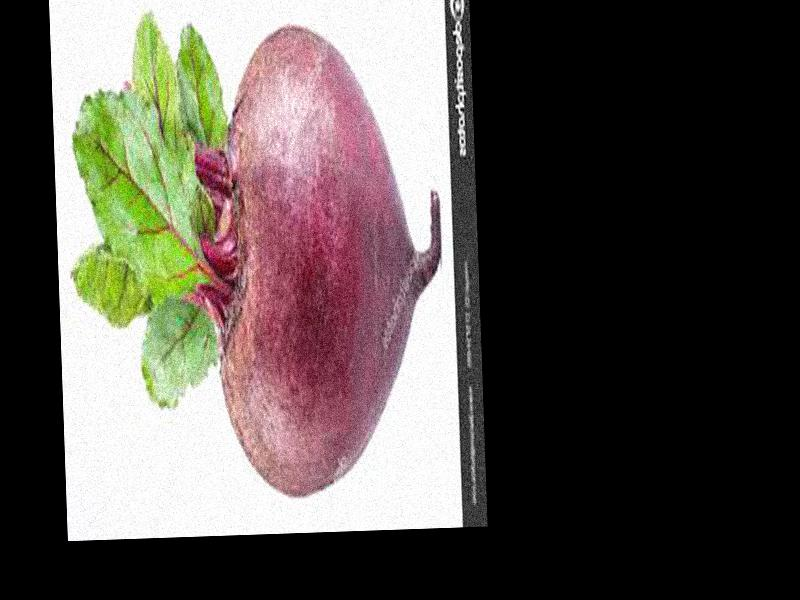Beet: (63, 3, 447, 505)
